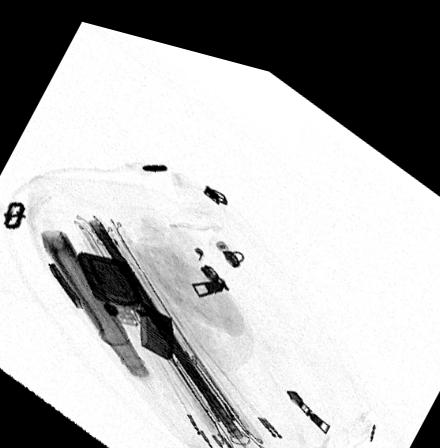Lighter: (75, 247, 175, 351)
